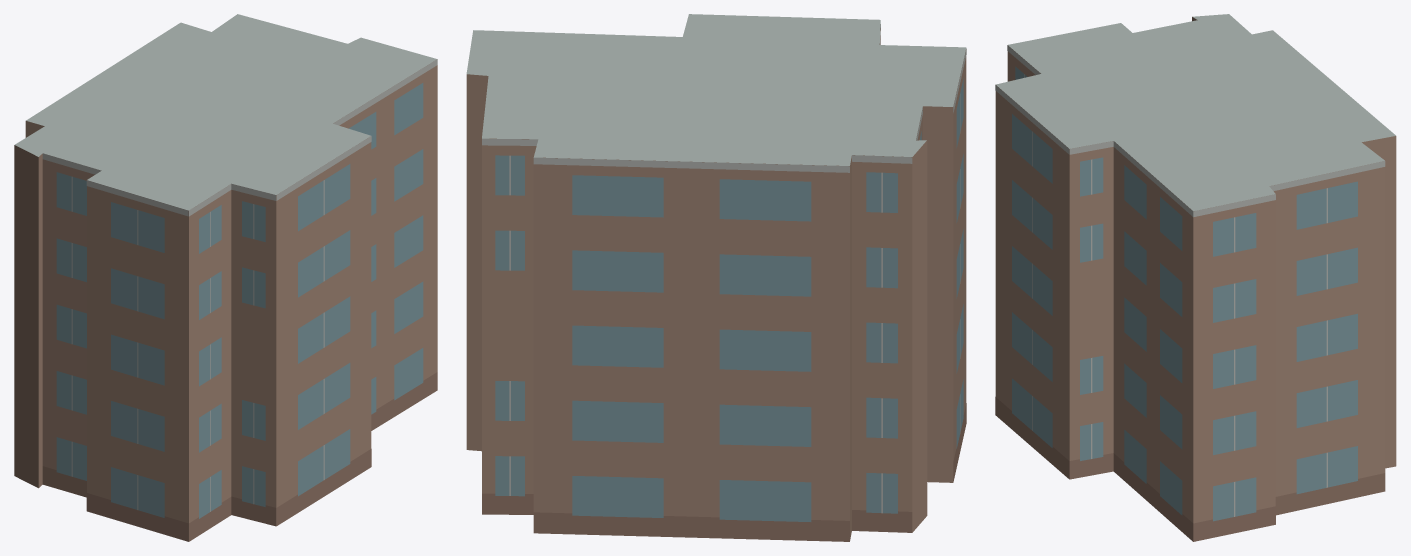
File: survey-upis-32587087.glb
3 views of the same model, side by side, from view 1: azimuth 30°, elevation 25°; view 2: azimuth 150°, elevation 25°; view 3: azimuth 270°, elevation 25° (orthographic). The views are drawn at different scales.
Parts seen in each view (by area): view 1: survey-upis-32587087.tmp; view 2: survey-upis-32587087.tmp; view 3: survey-upis-32587087.tmp.
Part boxes in pixels (x1,y1,x2,y2): survey-upis-32587087.tmp: [14, 14, 437, 541]; survey-upis-32587087.tmp: [466, 14, 966, 541]; survey-upis-32587087.tmp: [995, 14, 1396, 541].
Size of the model in its own units: 17.28 by 13.5 by 14.84.
